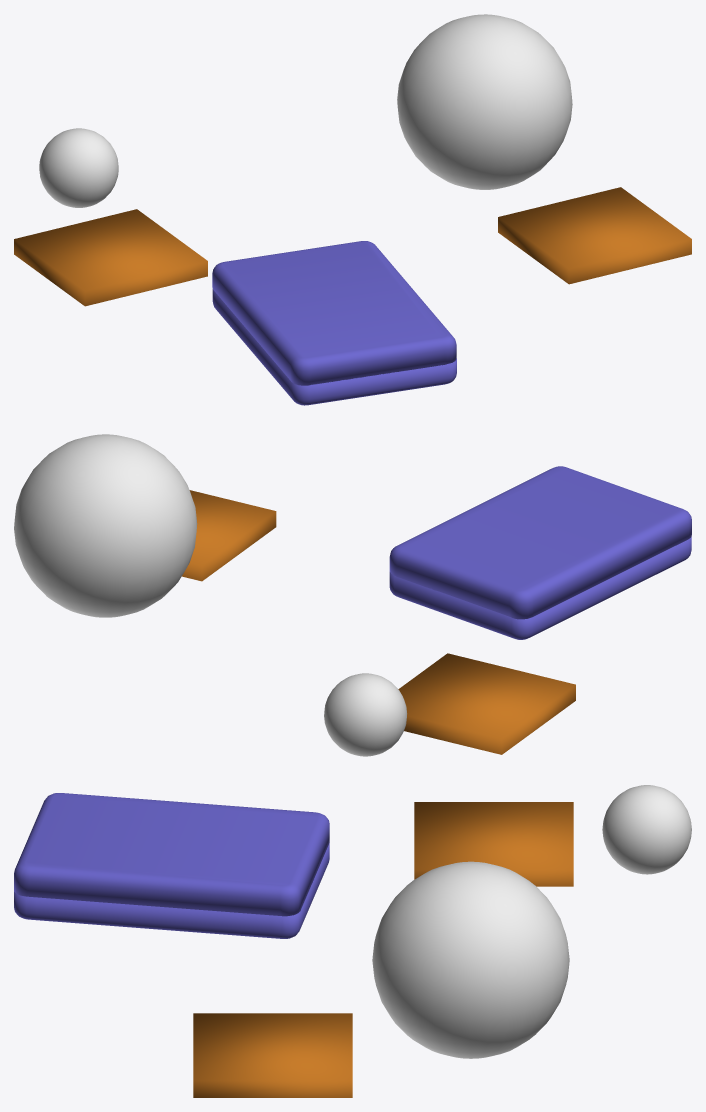
The model's file is ordi_3d.glb.
The picture shows the model from 3 angles, top to bottom: view 1: azimuth 30°, elevation 25°; view 2: azimuth 150°, elevation 25°; view 3: azimuth 270°, elevation 25°; orthographic projection. The views are drawn at different scales.
Parts seen in each view (by area): view 1: Sphere, Plane.001, Plane.006, Plane.008, Sphere.001, Plane; view 2: Plane.001, Sphere, Plane.008, Plane, Sphere.001, Plane.006; view 3: Plane.001, Sphere, Plane.006, Plane.008, Plane, Sphere.001.
Boxes of the visible parts, box(x1,y1,x2,y2) form: Sphere: box(397, 14, 572, 189); Plane.001: box(212, 241, 456, 385); Plane.006: box(498, 187, 691, 284); Plane.008: box(14, 209, 207, 306); Sphere.001: box(39, 128, 118, 207); Plane: box(212, 289, 456, 405); Plane.001: box(389, 466, 691, 619); Sphere: box(14, 434, 197, 617); Plane.008: box(398, 653, 575, 754); Plane: box(389, 537, 691, 639); Sphere.001: box(324, 673, 407, 756); Plane.006: box(182, 490, 276, 581); Plane.001: box(14, 793, 329, 916); Sphere: box(372, 861, 569, 1058); Plane.006: box(193, 1013, 352, 1097); Plane.008: box(414, 802, 573, 886); Plane: box(14, 843, 329, 938); Sphere.001: box(602, 785, 691, 874).
Size of what is drawn, in the model's own units: 2.1 by 0.6377 by 2.16.
